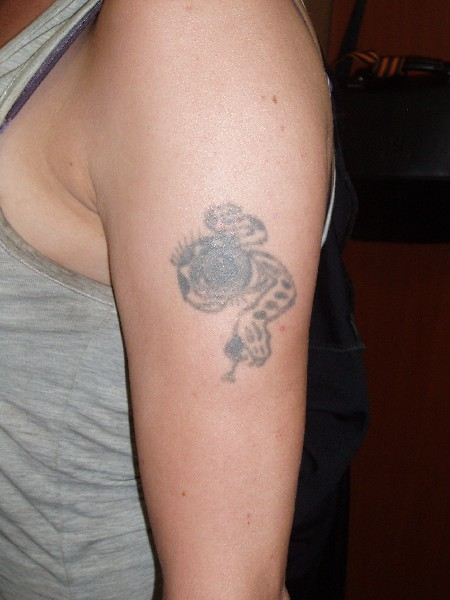tatu7_zmeya: (172, 189, 296, 370)
